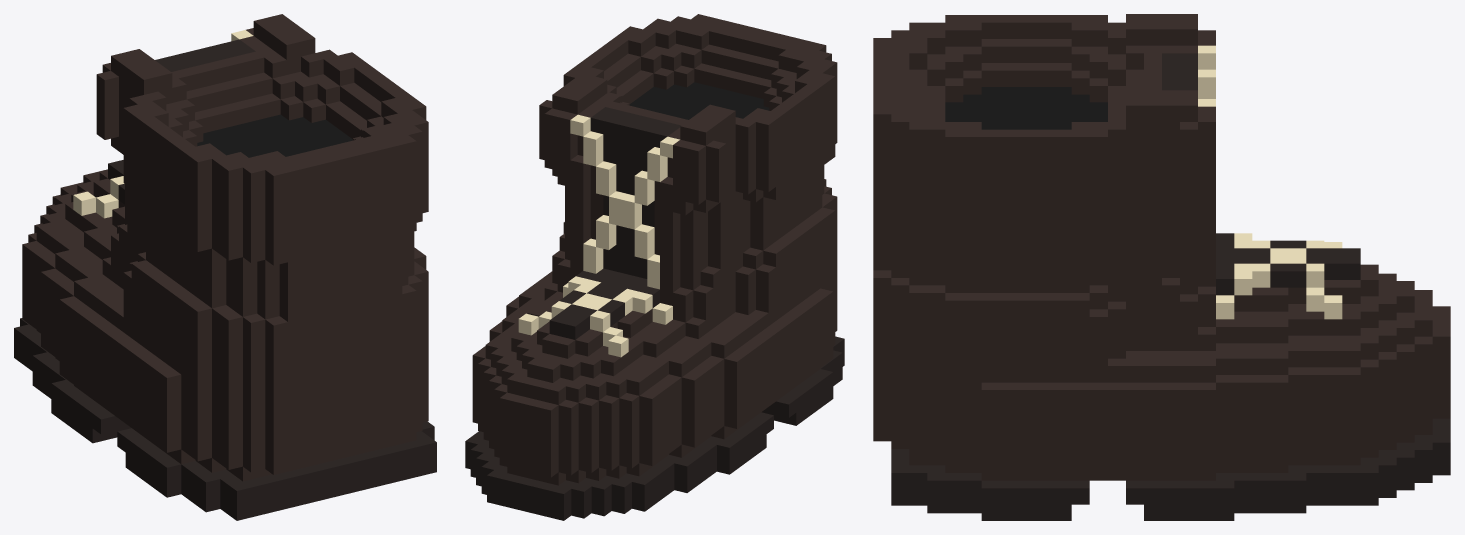
The model's file is Shoe.obj.
3 views of the same model, side by side, from view 1: azimuth 30°, elevation 25°; view 2: azimuth 150°, elevation 25°; view 3: azimuth 270°, elevation 25° (orthographic). The views are drawn at different scales.
Parts seen in each view (by area): view 1: Shoe; view 2: Shoe; view 3: Shoe.
Boxes of the visible parts, <box> form: Shoe: <box>14,14,436,520</box>; Shoe: <box>465,14,844,520</box>; Shoe: <box>873,14,1450,520</box>.
Size of the model in its own units: 18 by 24 by 32.
1 material, 1 textured.
